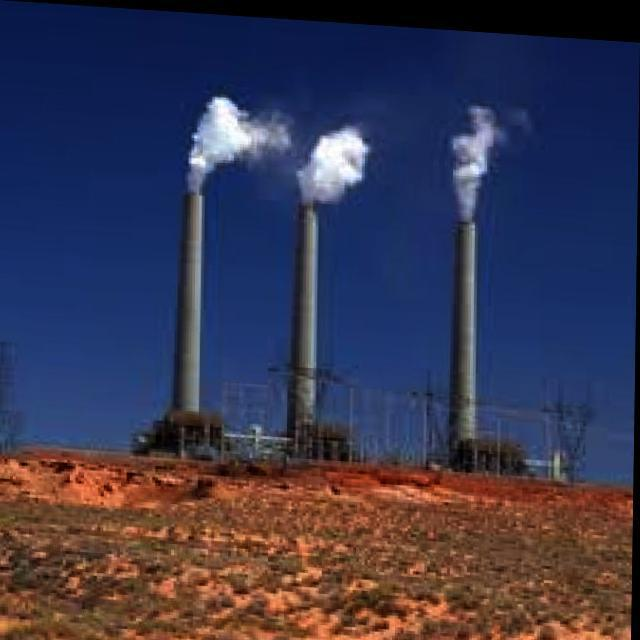Smoke: (185, 83, 291, 199), (438, 90, 528, 223), (283, 108, 381, 210)
